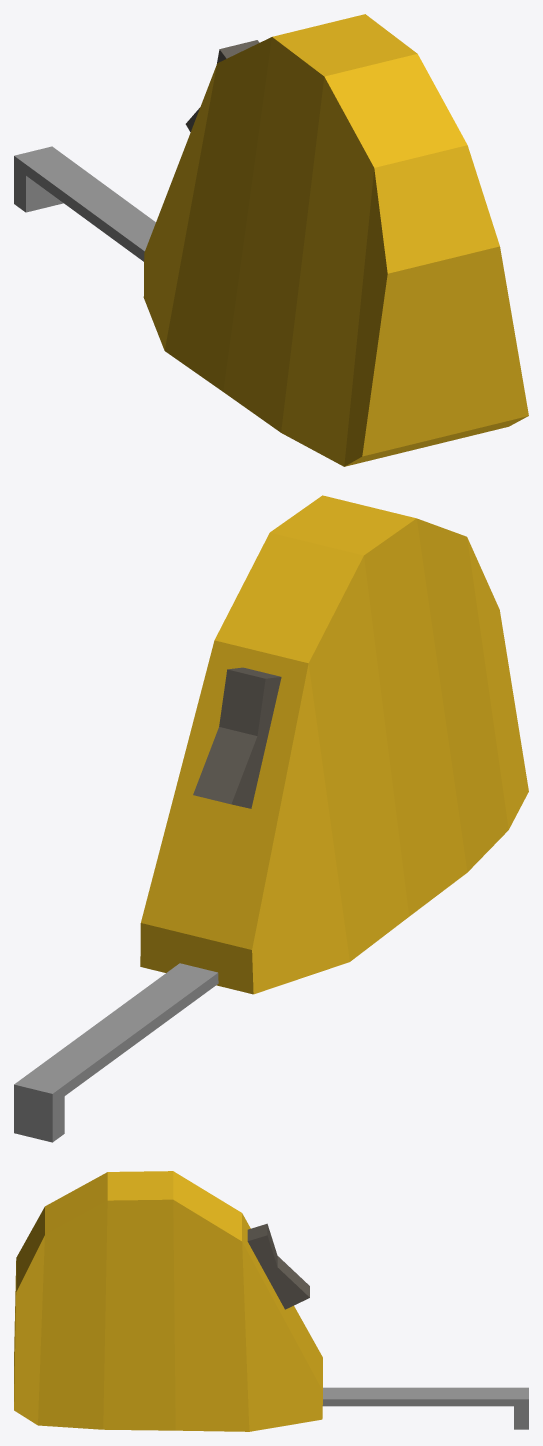
File: Metro.fbx
The picture shows the model from 3 angles, top to bottom: view 1: azimuth 30°, elevation 25°; view 2: azimuth 150°, elevation 25°; view 3: azimuth 270°, elevation 25°; orthographic projection. The views are drawn at different scales.
Visible parts, largest first — view 1: Cuerpo_Metro, Cinta_Metro; view 2: Cuerpo_Metro, Cinta_Metro, Seguro_Metro; view 3: Cuerpo_Metro, Cinta_Metro, Seguro_Metro.
Part boxes in pixels (left/top/right/bottom): Cuerpo_Metro: left=143, top=14, right=528, bottom=466; Cinta_Metro: left=14, top=146, right=155, bottom=261; Cuerpo_Metro: left=140, top=495, right=528, bottom=994; Cinta_Metro: left=14, top=963, right=218, bottom=1142; Seguro_Metro: left=193, top=667, right=281, bottom=808; Cuerpo_Metro: left=14, top=1171, right=322, bottom=1431; Cinta_Metro: left=322, top=1387, right=528, bottom=1429; Seguro_Metro: left=247, top=1223, right=309, bottom=1309.
Bounding box in the file's own units: 77.93 × 152 × 296.
